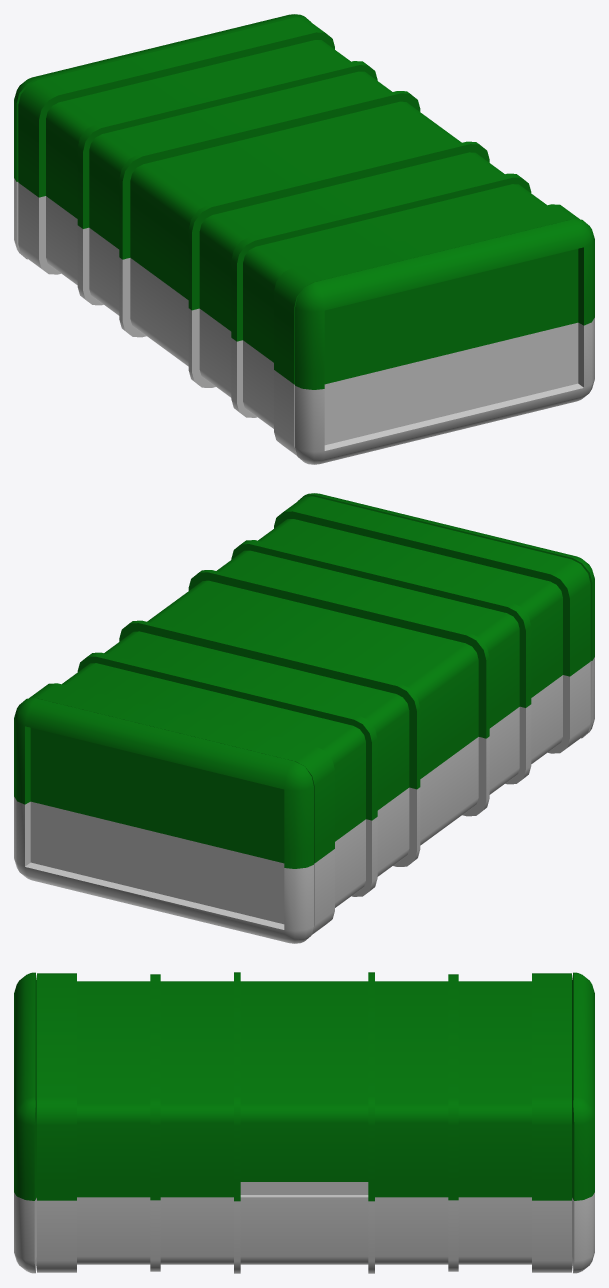
Rendered from Chest.fbx.
3 views of the same model, one above another, from view 1: azimuth 30°, elevation 25°; view 2: azimuth 150°, elevation 25°; view 3: azimuth 270°, elevation 25° (orthographic). The views are drawn at different scales.
Parts seen in each view (by area): view 1: ChamferBox002; view 2: ChamferBox002; view 3: ChamferBox002.
Part boxes in pixels (<box>): ChamferBox002: <box>14,14,594,464</box>; ChamferBox002: <box>14,493,594,943</box>; ChamferBox002: <box>14,972,594,1273</box>.
Size of the model in its own units: 80.57 by 46.76 by 140.
